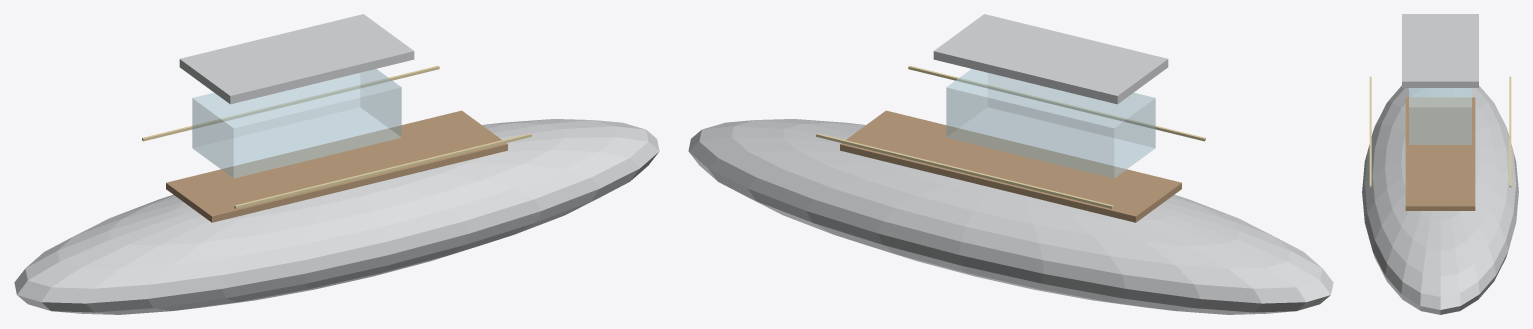
The model's file is reef-ferry.glb.
3 renders of one model, left to right at view 1: azimuth 30°, elevation 25°; view 2: azimuth 150°, elevation 25°; view 3: azimuth 270°, elevation 25°, orthographic. The views are drawn at different scales.
Visible parts, largest first — view 1: Sphere.056, Cube.174, Cube.171, Cube.172; view 2: Sphere.056, Cube.174, Cube.171, Cube.172; view 3: Sphere.056, Cube.171, Cube.174, Cube.172.
Boxes of the visible parts, x1,y1,x2,y2 form: Sphere.056: (14,14,659,314); Cube.174: (192,69,401,178); Cube.171: (166,110,507,222); Cube.172: (142,65,531,208); Sphere.056: (688,14,1333,314); Cube.174: (946,69,1155,178); Cube.171: (840,110,1181,222); Cube.172: (816,65,1205,208); Sphere.056: (1362,14,1518,314); Cube.171: (1405,97,1475,210); Cube.174: (1409,88,1471,144); Cube.172: (1369,76,1511,187).
Size of the model in its own units: 16 by 5.2 by 4.5.
